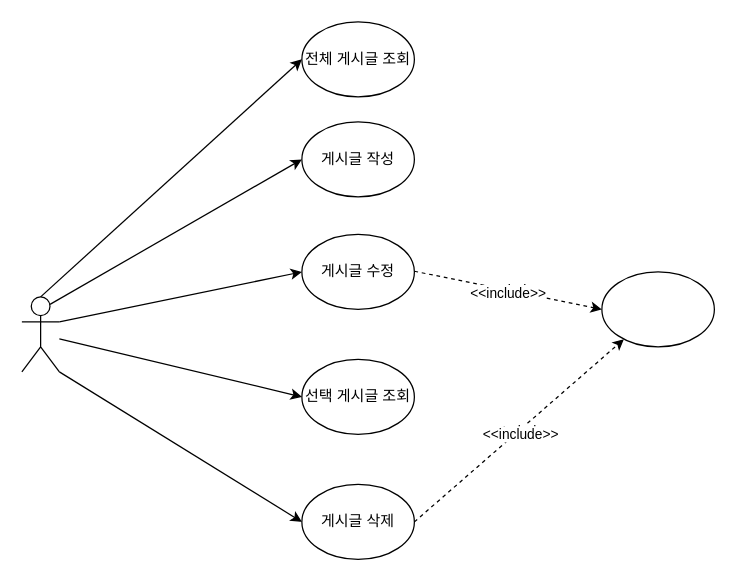
Some shapes in this 736 by 581 pixel diagram are drawn without their labels. The shapes that lost their labels are listed below. From the top down, each one's centre as x and y in pixels, then its label:
the point at 657,309: 비밀번호 확인
the point at 40,334: Client
